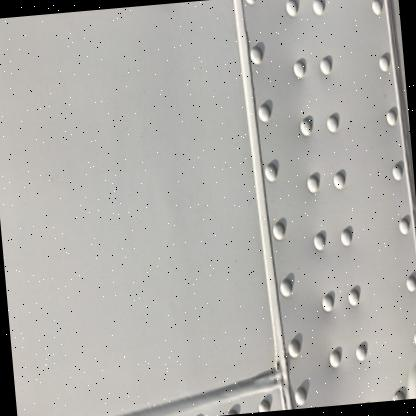Nocrack: (0, 4, 411, 400)
